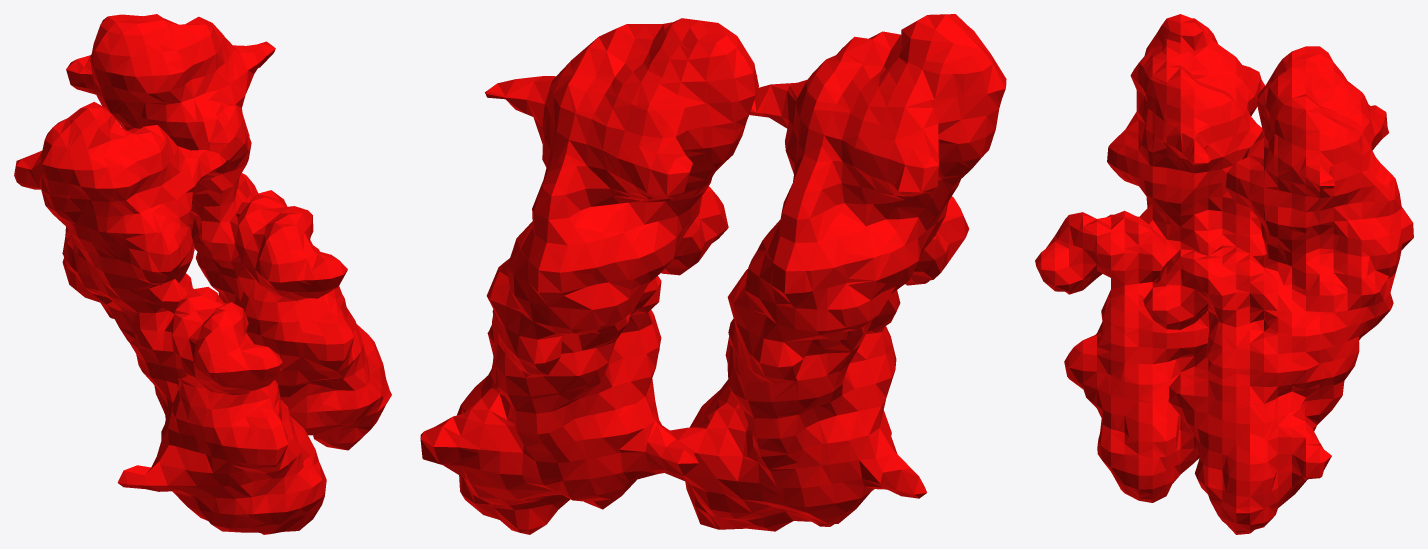
File: rob_coarse.dae
The picture shows the model from 3 angles, left to right: view 1: azimuth 30°, elevation 25°; view 2: azimuth 150°, elevation 25°; view 3: azimuth 270°, elevation 25°; orthographic projection. The views are drawn at different scales.
Parts seen in each view (by area): view 1: rob; view 2: rob; view 3: rob.
Part boxes in pixels (x1,y1,x2,y2): rob: (14, 14, 391, 534); rob: (420, 14, 1006, 534); rob: (1035, 14, 1413, 534).
Size of the model in its own units: 120 by 138 by 115.
